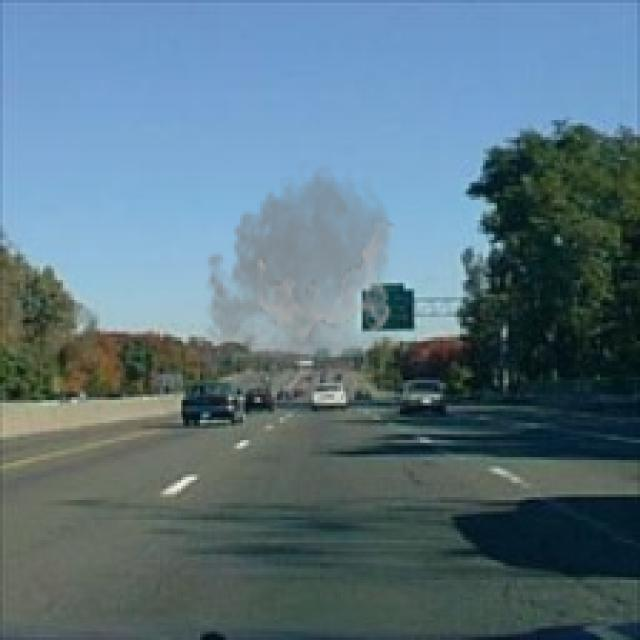smoke: (194, 154, 397, 409)
